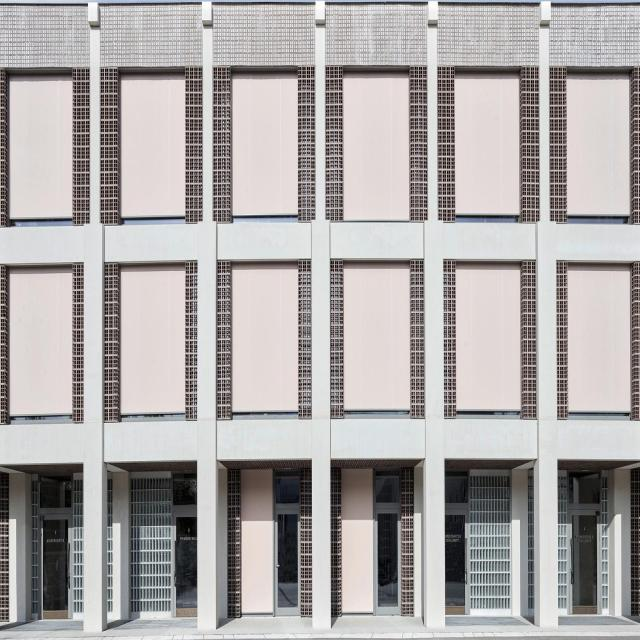door: (567, 501, 600, 612), (41, 503, 70, 619), (274, 499, 302, 612), (375, 501, 401, 612), (172, 504, 195, 616), (446, 498, 467, 614)
windows: (567, 469, 600, 502), (41, 478, 73, 507), (274, 472, 302, 499), (375, 473, 402, 501), (174, 475, 199, 503), (444, 471, 468, 498)
